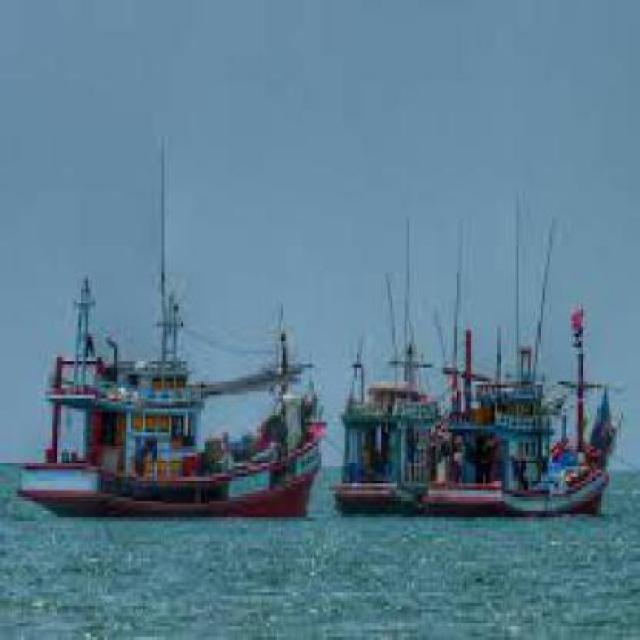fish-b: (18, 260, 332, 536), (422, 305, 629, 539)
